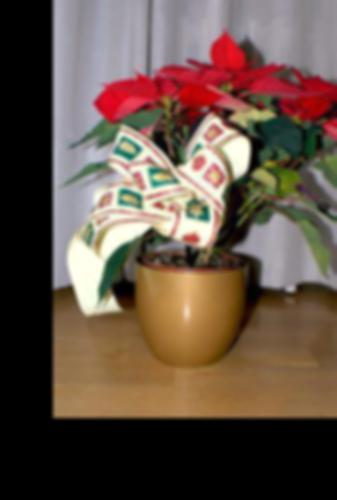Matera: (62, 33, 337, 370)
